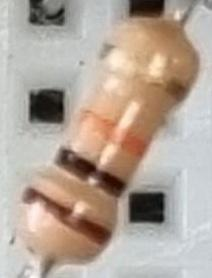Black: (52, 142, 129, 202)
Brown: (19, 186, 117, 250)
Orange: (73, 105, 151, 160)
Side-Gold: (101, 50, 190, 103)
